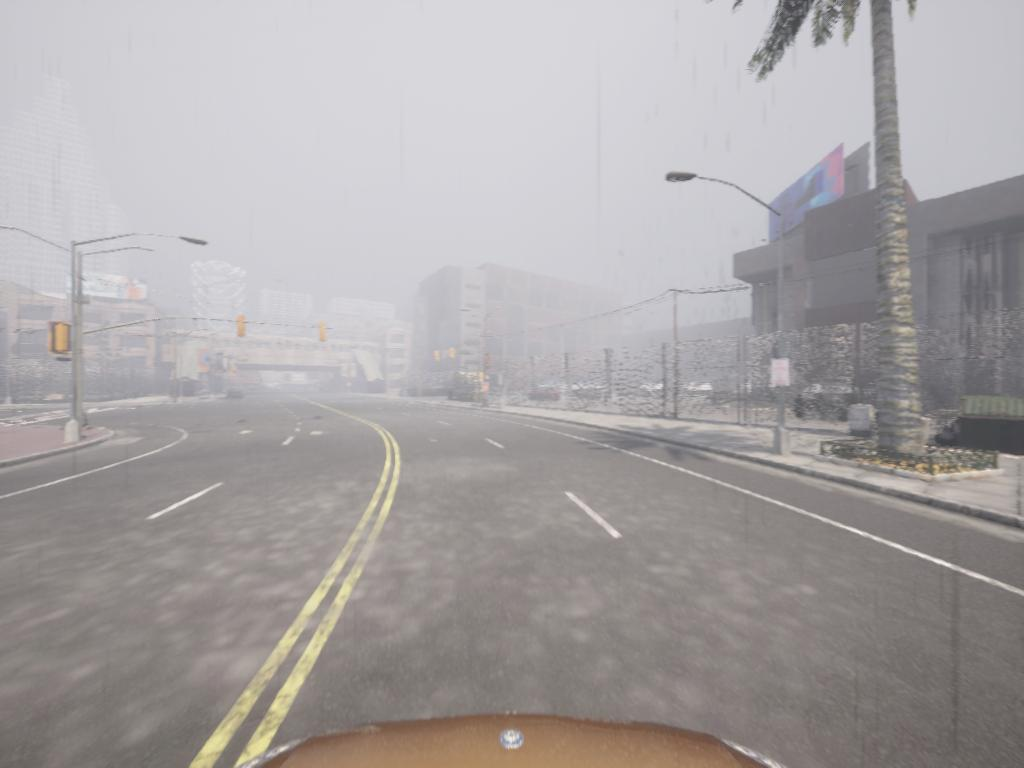traffic_light: (51, 323, 73, 355), (235, 317, 247, 339), (318, 324, 328, 343)
